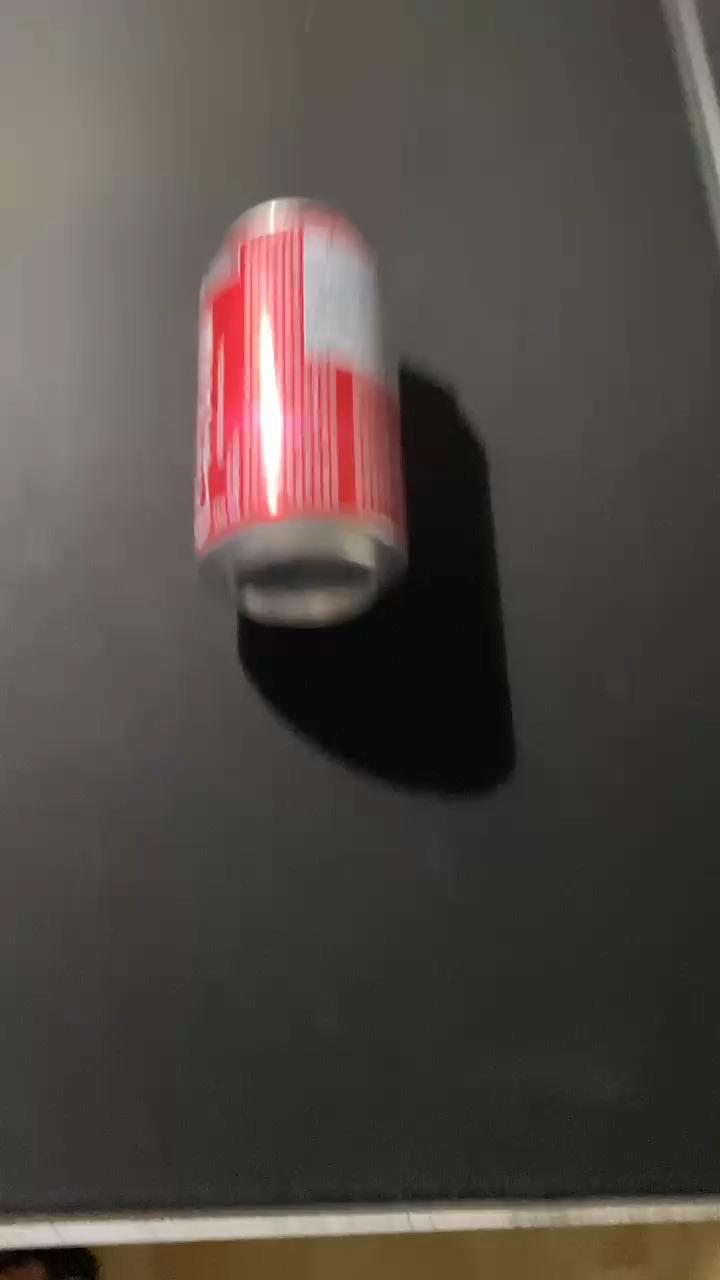coke: (191, 196, 404, 618)
